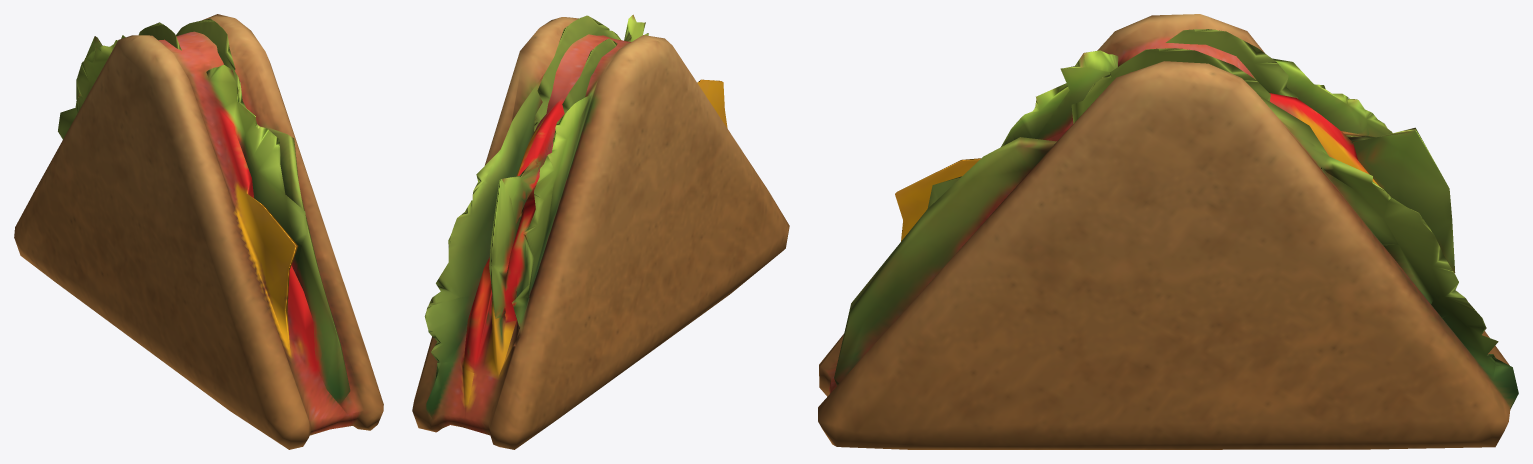
Rendered from SM_Sandwich.fbx.
The picture shows the model from 3 angles, left to right: view 1: azimuth 30°, elevation 25°; view 2: azimuth 150°, elevation 25°; view 3: azimuth 270°, elevation 25°; orthographic projection. The views are drawn at different scales.
Parts seen in each view (by area): view 1: SM_Sandwich_LOD0; view 2: SM_Sandwich_LOD0; view 3: SM_Sandwich_LOD0.
Boxes of the visible parts, x1,y1,x2,y2 form: SM_Sandwich_LOD0: [14, 14, 383, 449]; SM_Sandwich_LOD0: [412, 14, 789, 449]; SM_Sandwich_LOD0: [818, 14, 1518, 449].
Bounding box in the file's own units: 5 × 21.5 × 13.26.
1 material, 1 textured.
